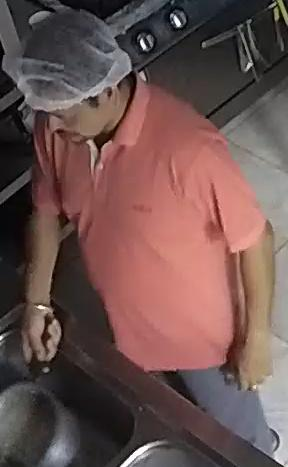no_apron: (37, 82, 245, 366)
